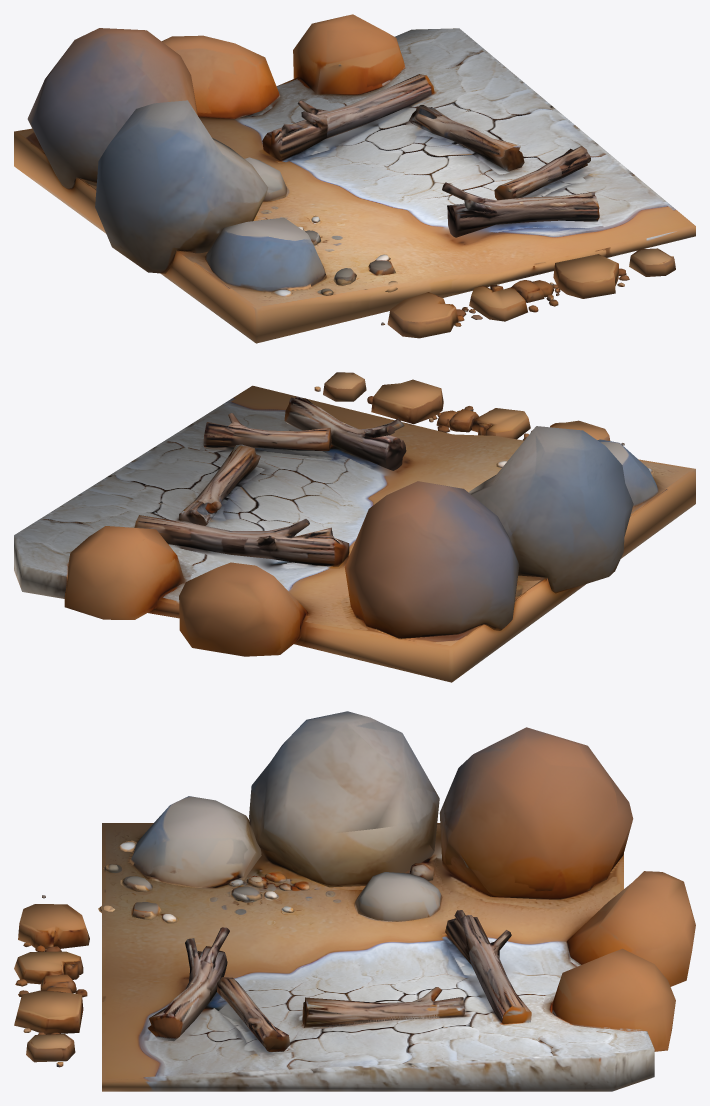
Rendered from SM_CanyonCreekBeach.fbx.
The picture shows the model from 3 angles, top to bottom: view 1: azimuth 30°, elevation 25°; view 2: azimuth 150°, elevation 25°; view 3: azimuth 270°, elevation 25°; orthographic projection. The views are drawn at different scales.
Visible parts, largest first — view 1: SM_CanyonCreekBeach; view 2: SM_CanyonCreekBeach; view 3: SM_CanyonCreekBeach.
Boxes of the visible parts, x1=… form: SM_CanyonCreekBeach: x1=14, y1=14, x2=695, y2=343; SM_CanyonCreekBeach: x1=14, y1=372, x2=695, y2=682; SM_CanyonCreekBeach: x1=14, y1=711, x2=695, y2=1091.
Bounding box in the file's own units: 681 × 203 × 779.
